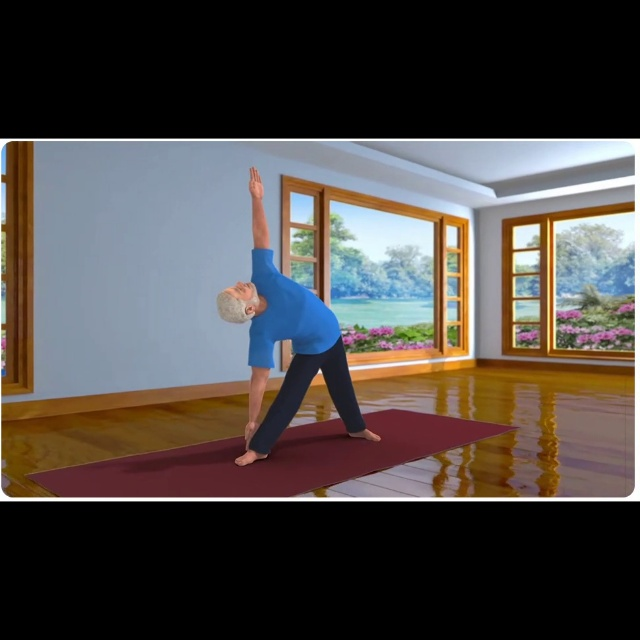Triangle_Pose: (212, 155, 391, 470)
